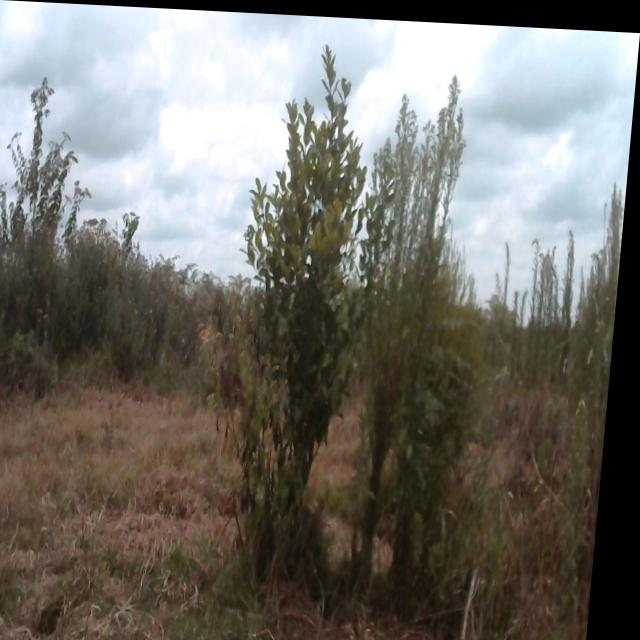other: (230, 42, 411, 523), (344, 69, 479, 551), (0, 77, 99, 265)
